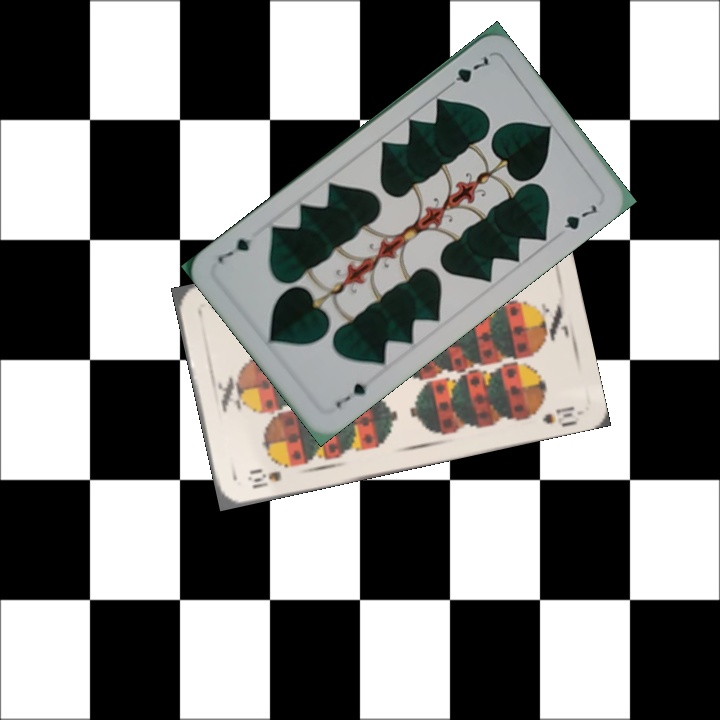G7: (441, 52, 491, 93), (331, 378, 370, 411)
S10: (243, 466, 284, 491)
